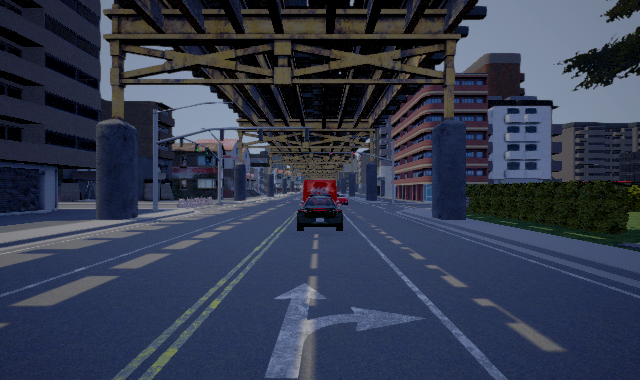traffic_light: (353, 152, 355, 159), (330, 152, 332, 159)
vehicle: (297, 195, 343, 231), (298, 179, 337, 208)
